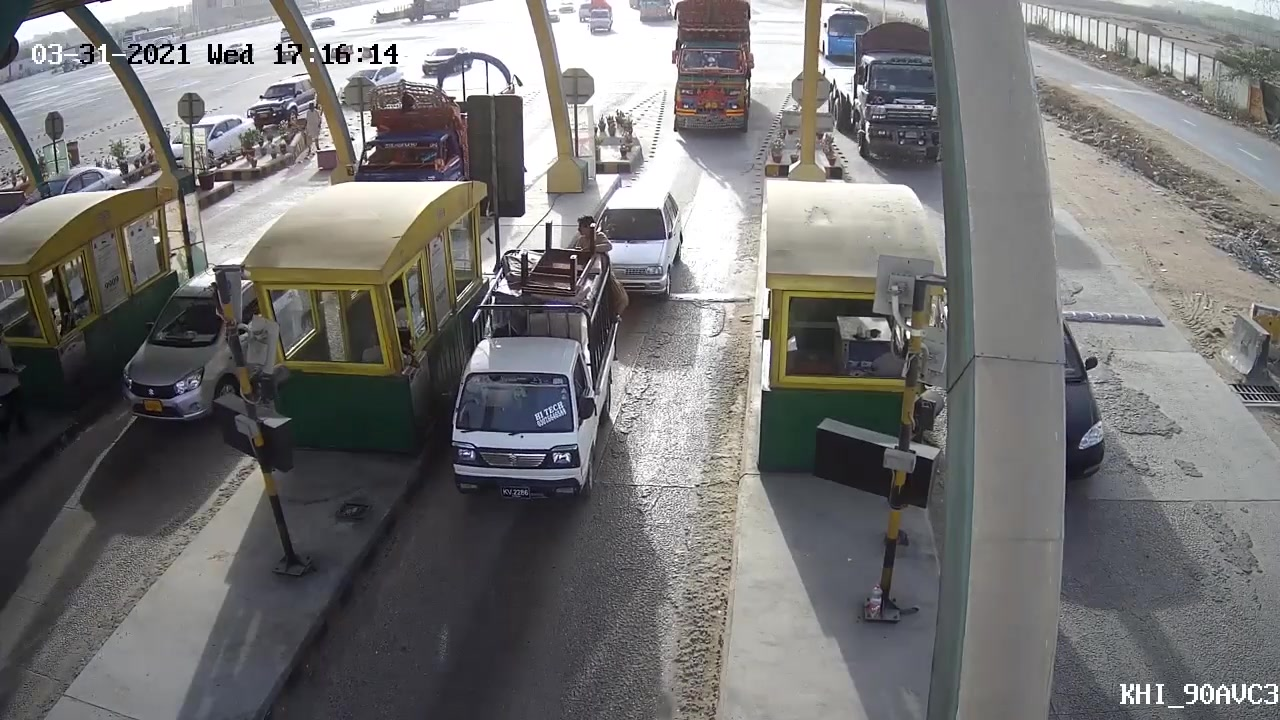F1: (442, 226, 616, 513), (586, 193, 686, 303)
